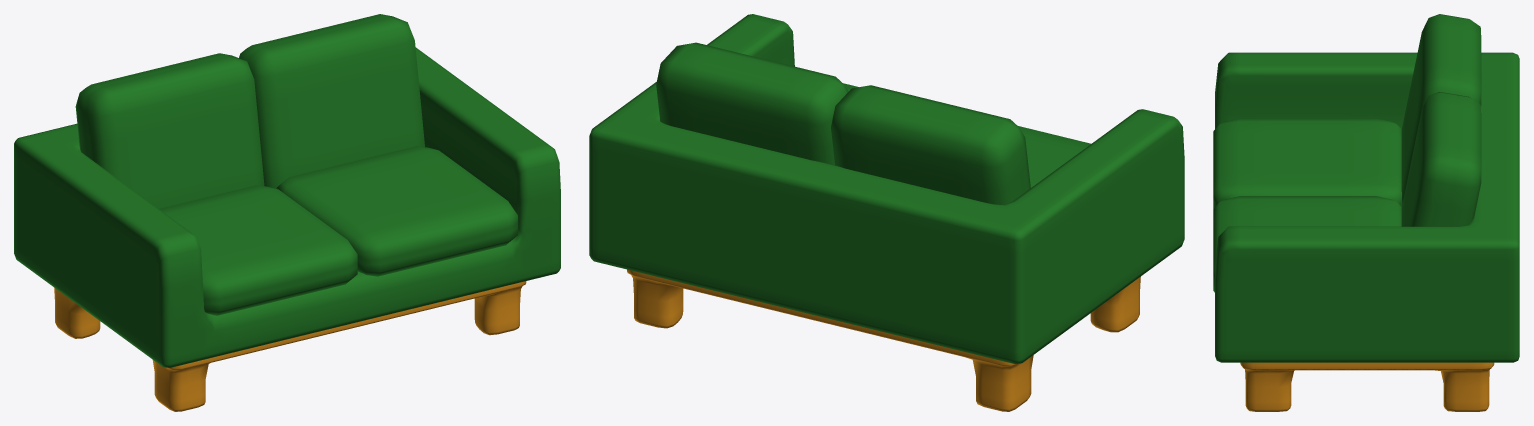
File: sofa.fbx
The picture shows the model from 3 angles, left to right: view 1: azimuth 30°, elevation 25°; view 2: azimuth 150°, elevation 25°; view 3: azimuth 270°, elevation 25°; orthographic projection. The views are drawn at different scales.
Parts seen in each view (by area): view 1: base, coussin1, coussin, coussin3, coussin2; view 2: base, coussin, coussin1, coussin2; view 3: base, coussin2, coussin1, coussin, coussin3.
Boxes of the visible parts, <box> form: base: <box>14,47,560,411</box>; coussin1: <box>239,14,424,188</box>; coussin: <box>75,53,264,208</box>; coussin3: <box>276,146,517,276</box>; coussin2: <box>159,185,357,315</box>; base: <box>589,14,1184,411</box>; coussin: <box>831,85,1030,204</box>; coussin1: <box>656,42,848,165</box>; coussin2: <box>1018,126,1091,187</box>; base: <box>1215,52,1519,411</box>; coussin2: <box>1213,118,1401,208</box>; coussin1: <box>1401,92,1481,226</box>; coussin: <box>1401,14,1481,205</box>; coussin3: <box>1213,196,1401,292</box>.
Size of the model in its own units: 18.27 by 10.76 by 12.26.
